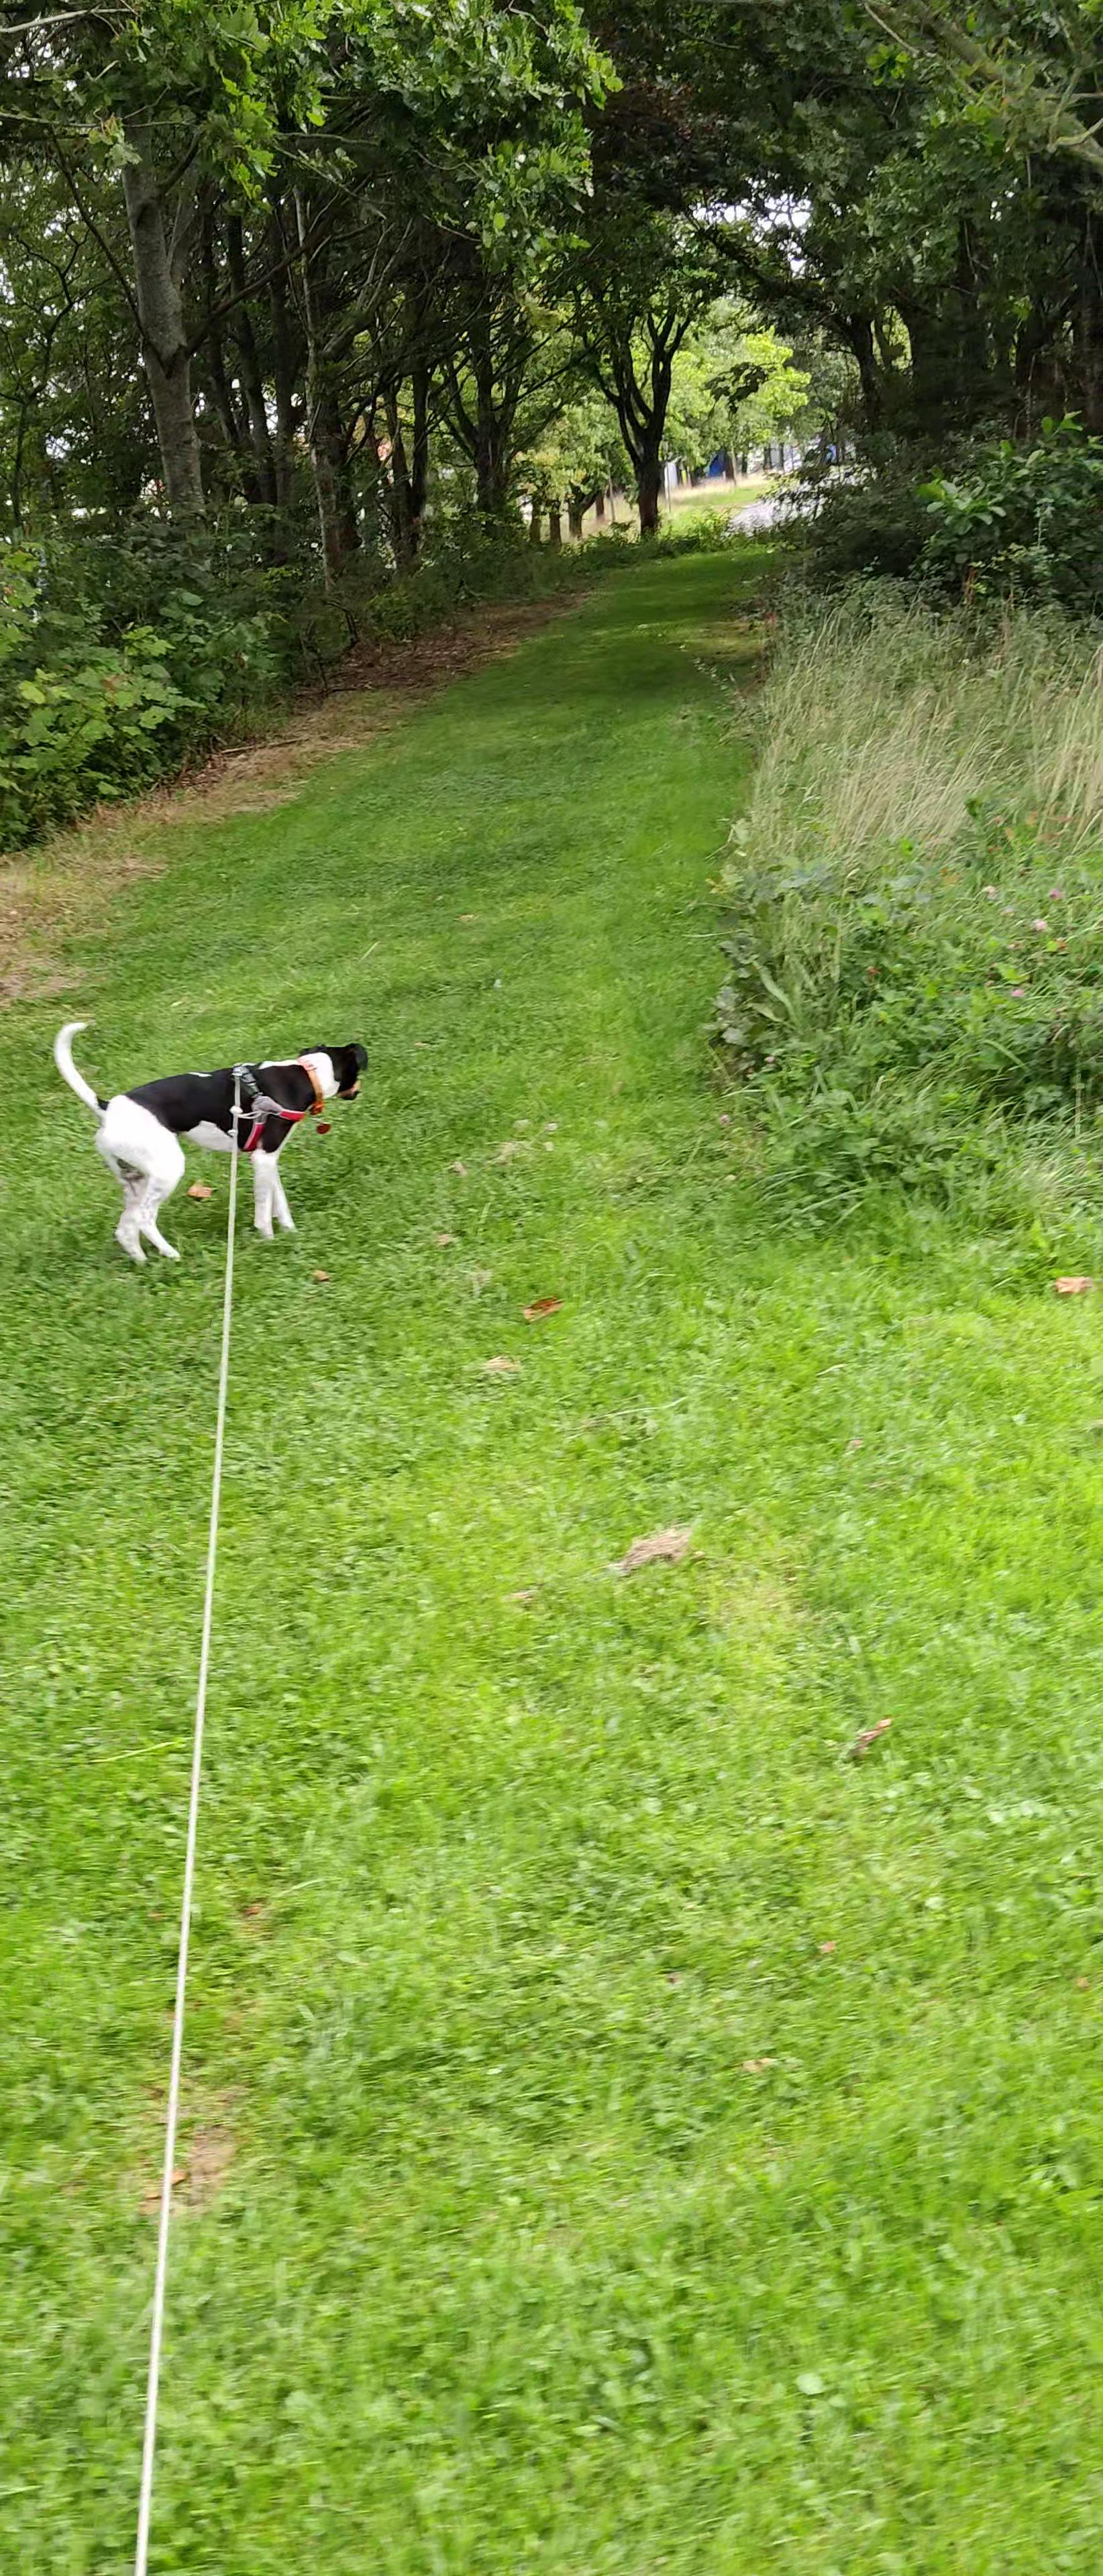Dog: (39, 1004, 386, 1278)
